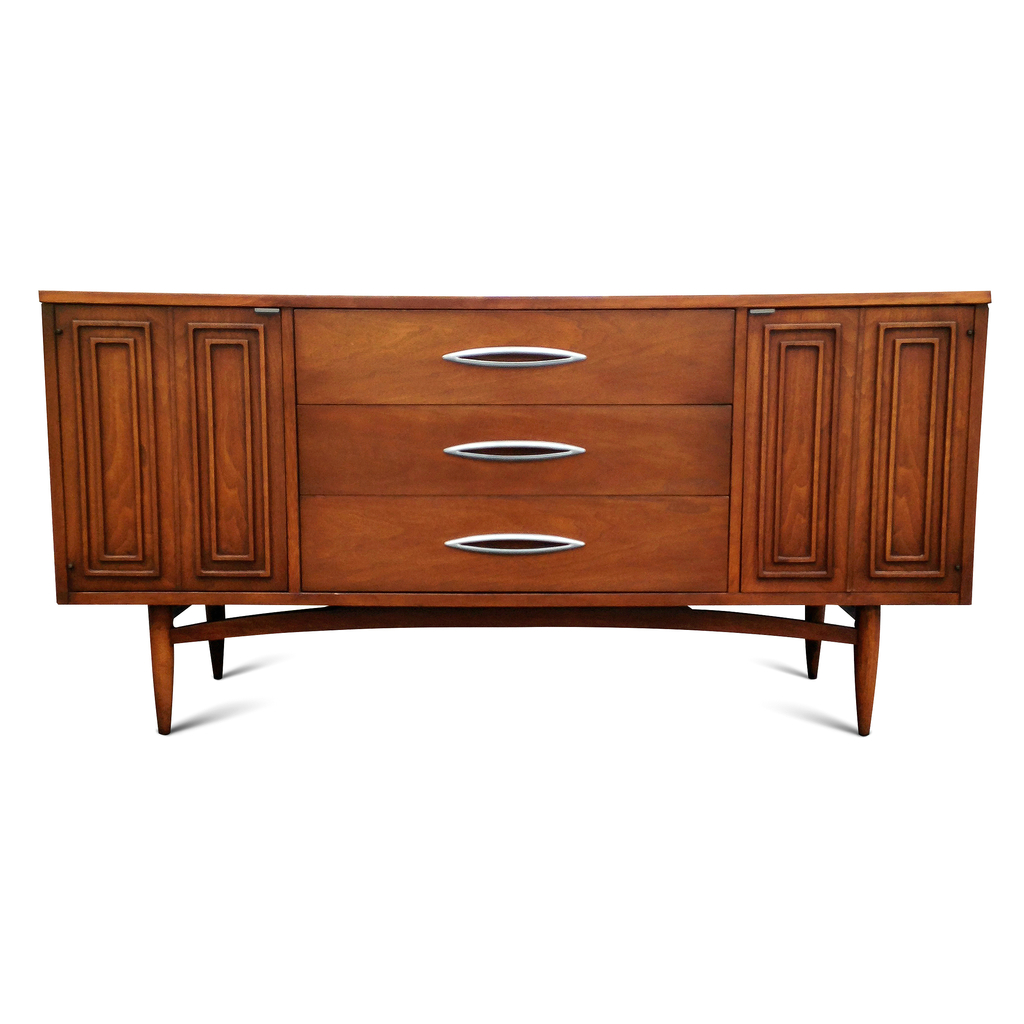cabinet door: (306, 310, 734, 404), (303, 499, 730, 579), (302, 412, 733, 489)
handle: (438, 518, 586, 562), (450, 336, 584, 384), (443, 421, 579, 468)
